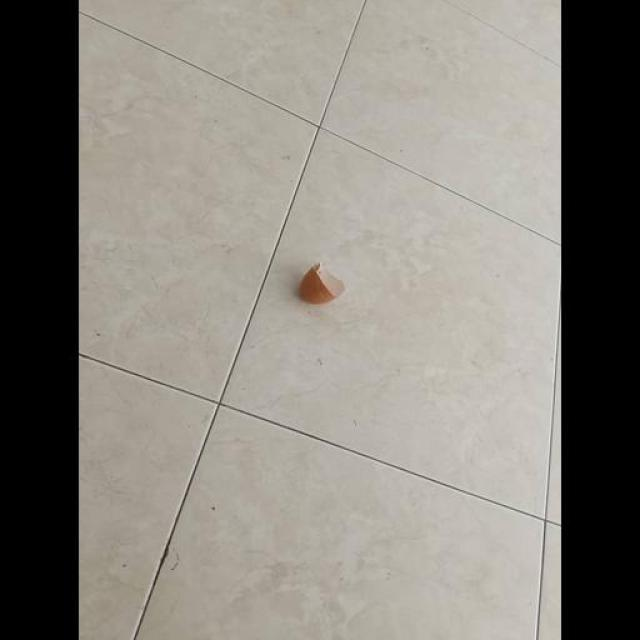organic: (300, 263, 344, 303)
